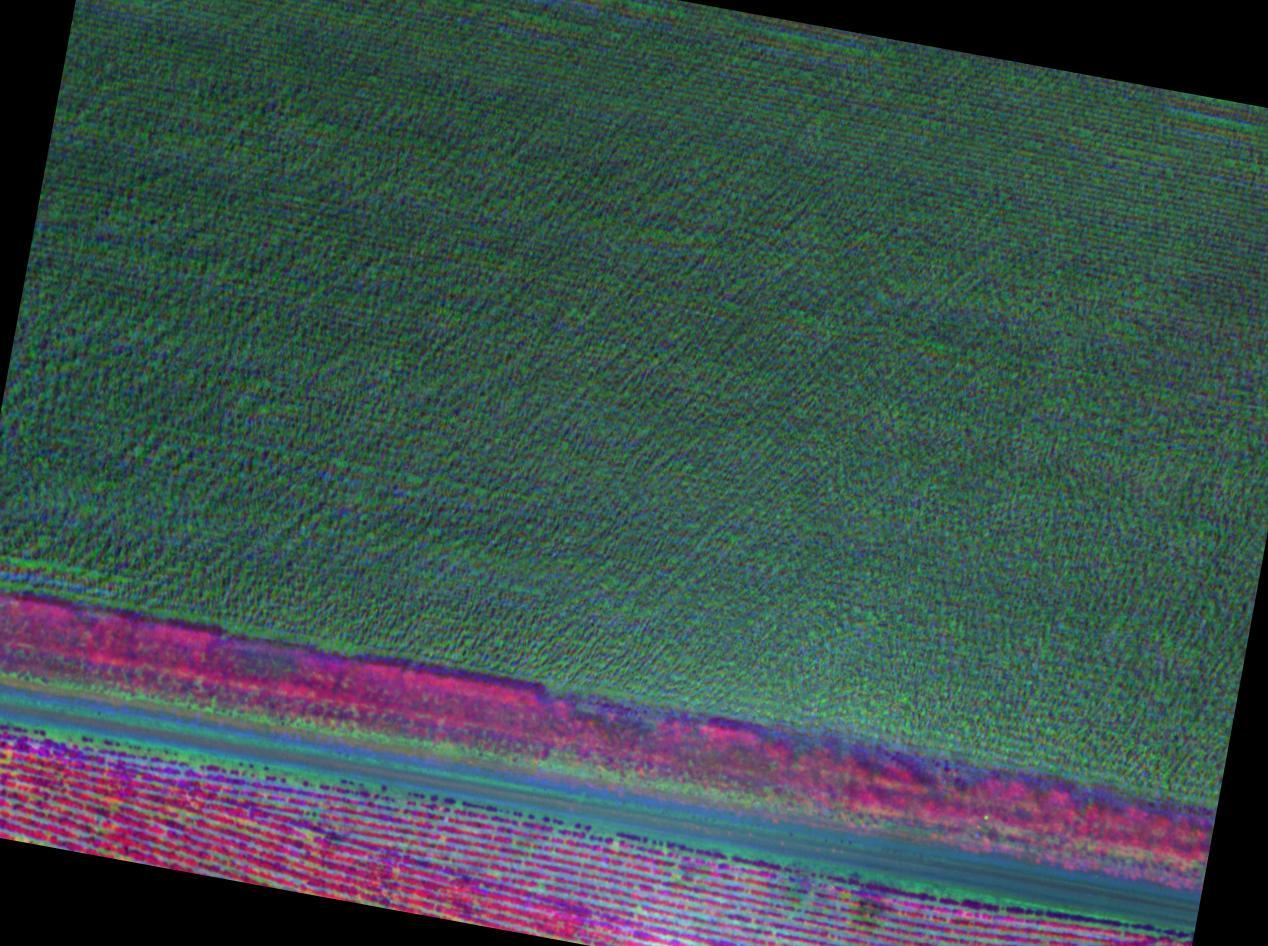dc: (831, 878, 932, 946)
